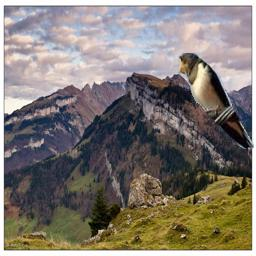Swallow: (177, 53, 254, 149)
